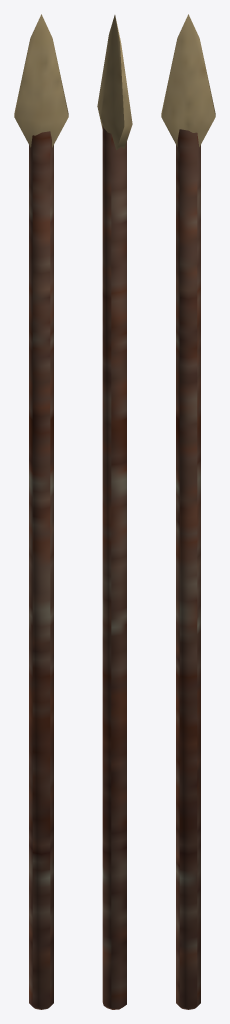
Rendered from spear.fbx.
3 views of the same model, side by side, from view 1: azimuth 90°, elevation 25°; view 2: azimuth 210°, elevation 25°; view 3: azimuth 270°, elevation 25° (orthographic).
Parts seen in each view (by area): view 1: Cylinder.004; view 2: Cylinder.004; view 3: Cylinder.004.
Part boxes in pixels (x1,y1,x2,y2): Cylinder.004: [14, 14, 68, 1009]; Cylinder.004: [97, 15, 132, 1009]; Cylinder.004: [161, 14, 215, 1009].
Bounding box in the file's own units: 4.54 × 157 × 7.76.
